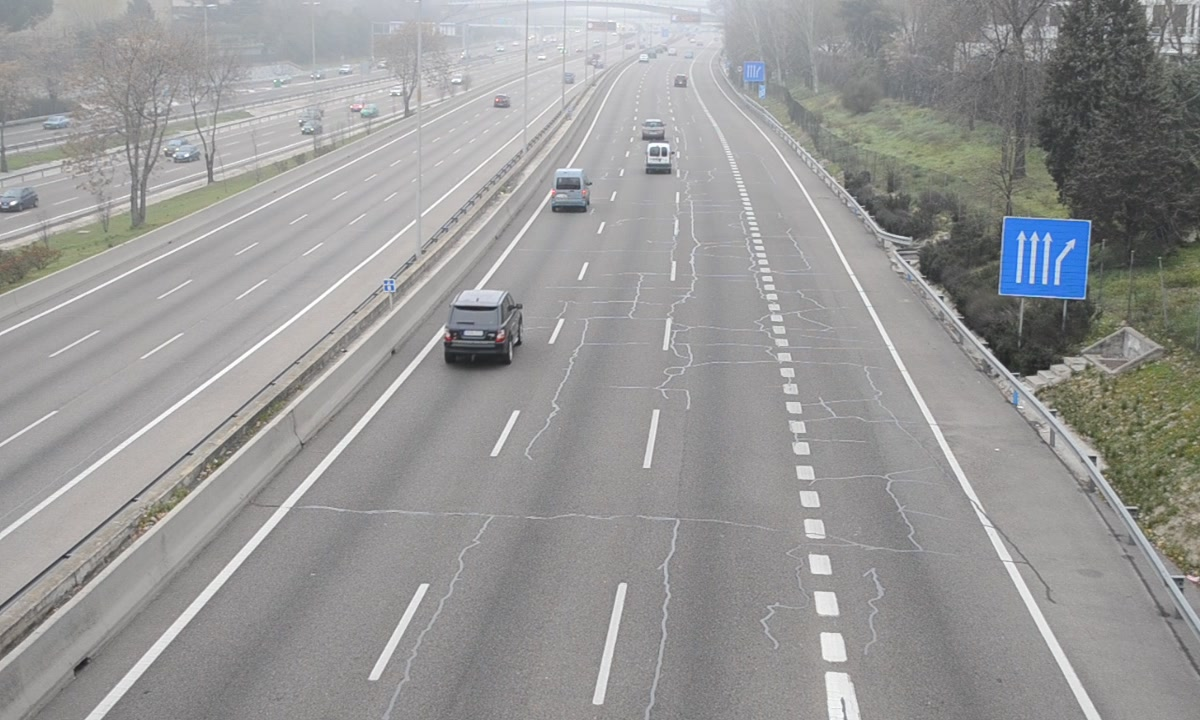car: (444, 292, 522, 359)
van: (551, 168, 591, 211), (644, 140, 673, 176)
